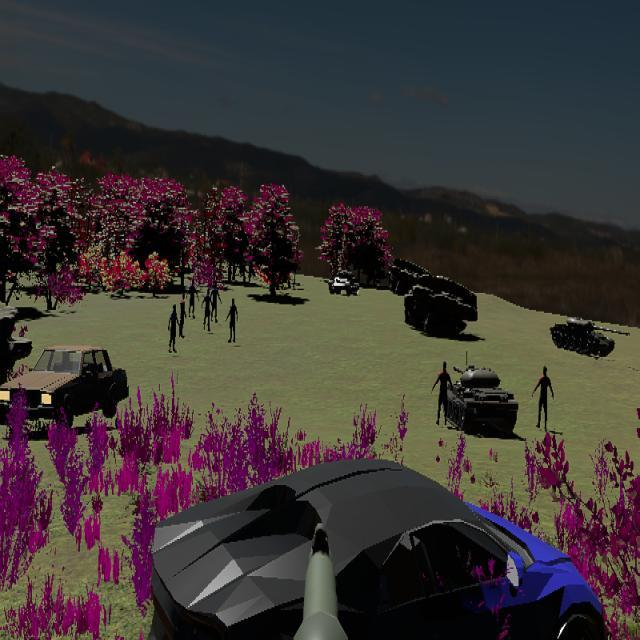Tank: (445, 363, 519, 437), (549, 313, 630, 359)
car: (135, 457, 612, 640), (0, 344, 129, 429)
